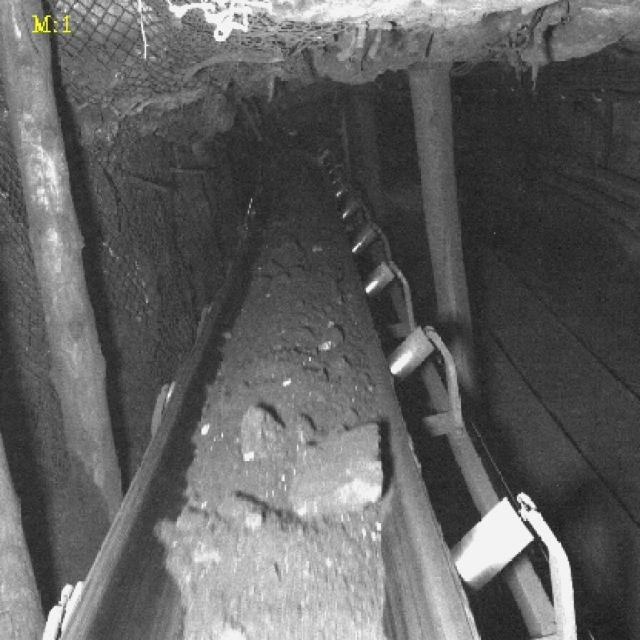large_sized_coal: (291, 422, 383, 518), (240, 403, 286, 466), (212, 491, 266, 534), (288, 414, 318, 446), (319, 318, 346, 352)
